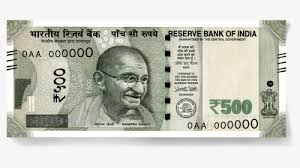fiveHundred: (17, 38, 265, 117)
